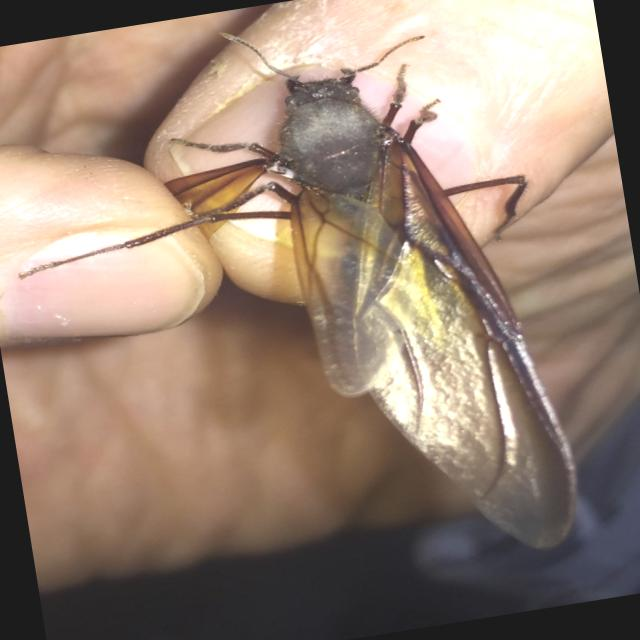Alive-Female-Alate: (0, 0, 590, 624)
